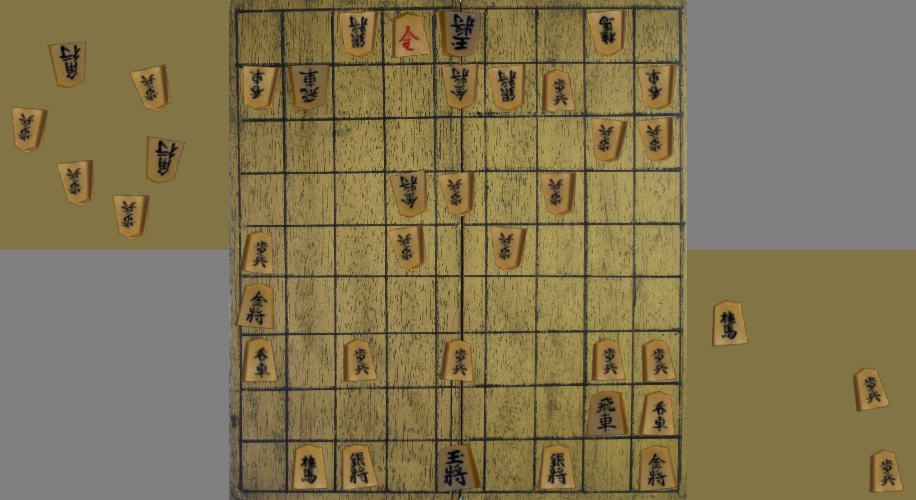A: (438, 445, 480, 491), (587, 392, 627, 434), (237, 284, 273, 328), (393, 13, 428, 57), (640, 446, 675, 490), (539, 445, 574, 488), (342, 446, 376, 489), (243, 339, 276, 382), (641, 392, 674, 435), (293, 446, 326, 488), (344, 340, 376, 381), (593, 339, 625, 379), (644, 340, 675, 380), (442, 340, 472, 381), (242, 232, 272, 273), (543, 71, 574, 110)
B: (442, 12, 480, 56), (588, 10, 625, 55), (290, 67, 328, 110), (388, 227, 425, 269), (341, 12, 375, 56), (391, 172, 425, 216), (489, 66, 523, 110), (244, 67, 279, 109), (638, 118, 672, 161), (443, 65, 476, 109), (440, 173, 473, 215), (594, 119, 626, 162), (640, 66, 672, 109), (541, 174, 574, 215), (494, 228, 525, 270)
C: (713, 301, 747, 346), (854, 368, 889, 411), (871, 451, 902, 491)
D: (131, 65, 170, 110), (148, 138, 184, 182), (50, 42, 84, 87), (58, 161, 92, 205), (14, 108, 46, 152), (115, 196, 148, 238)
